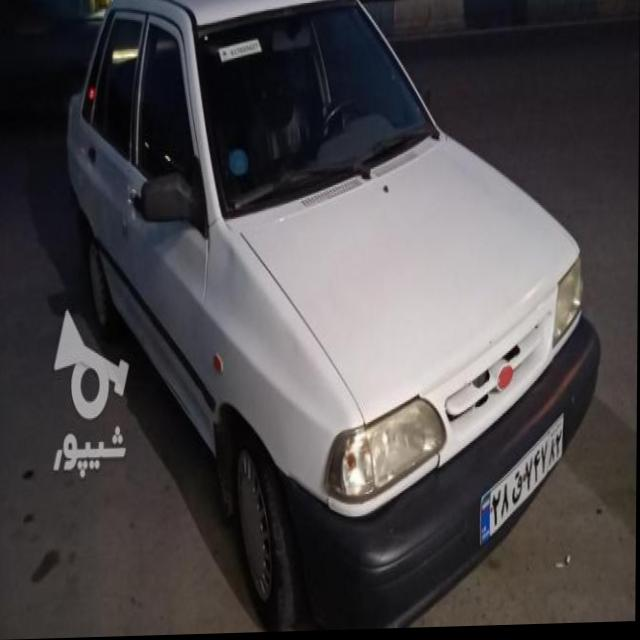licence: (476, 413, 566, 549)
